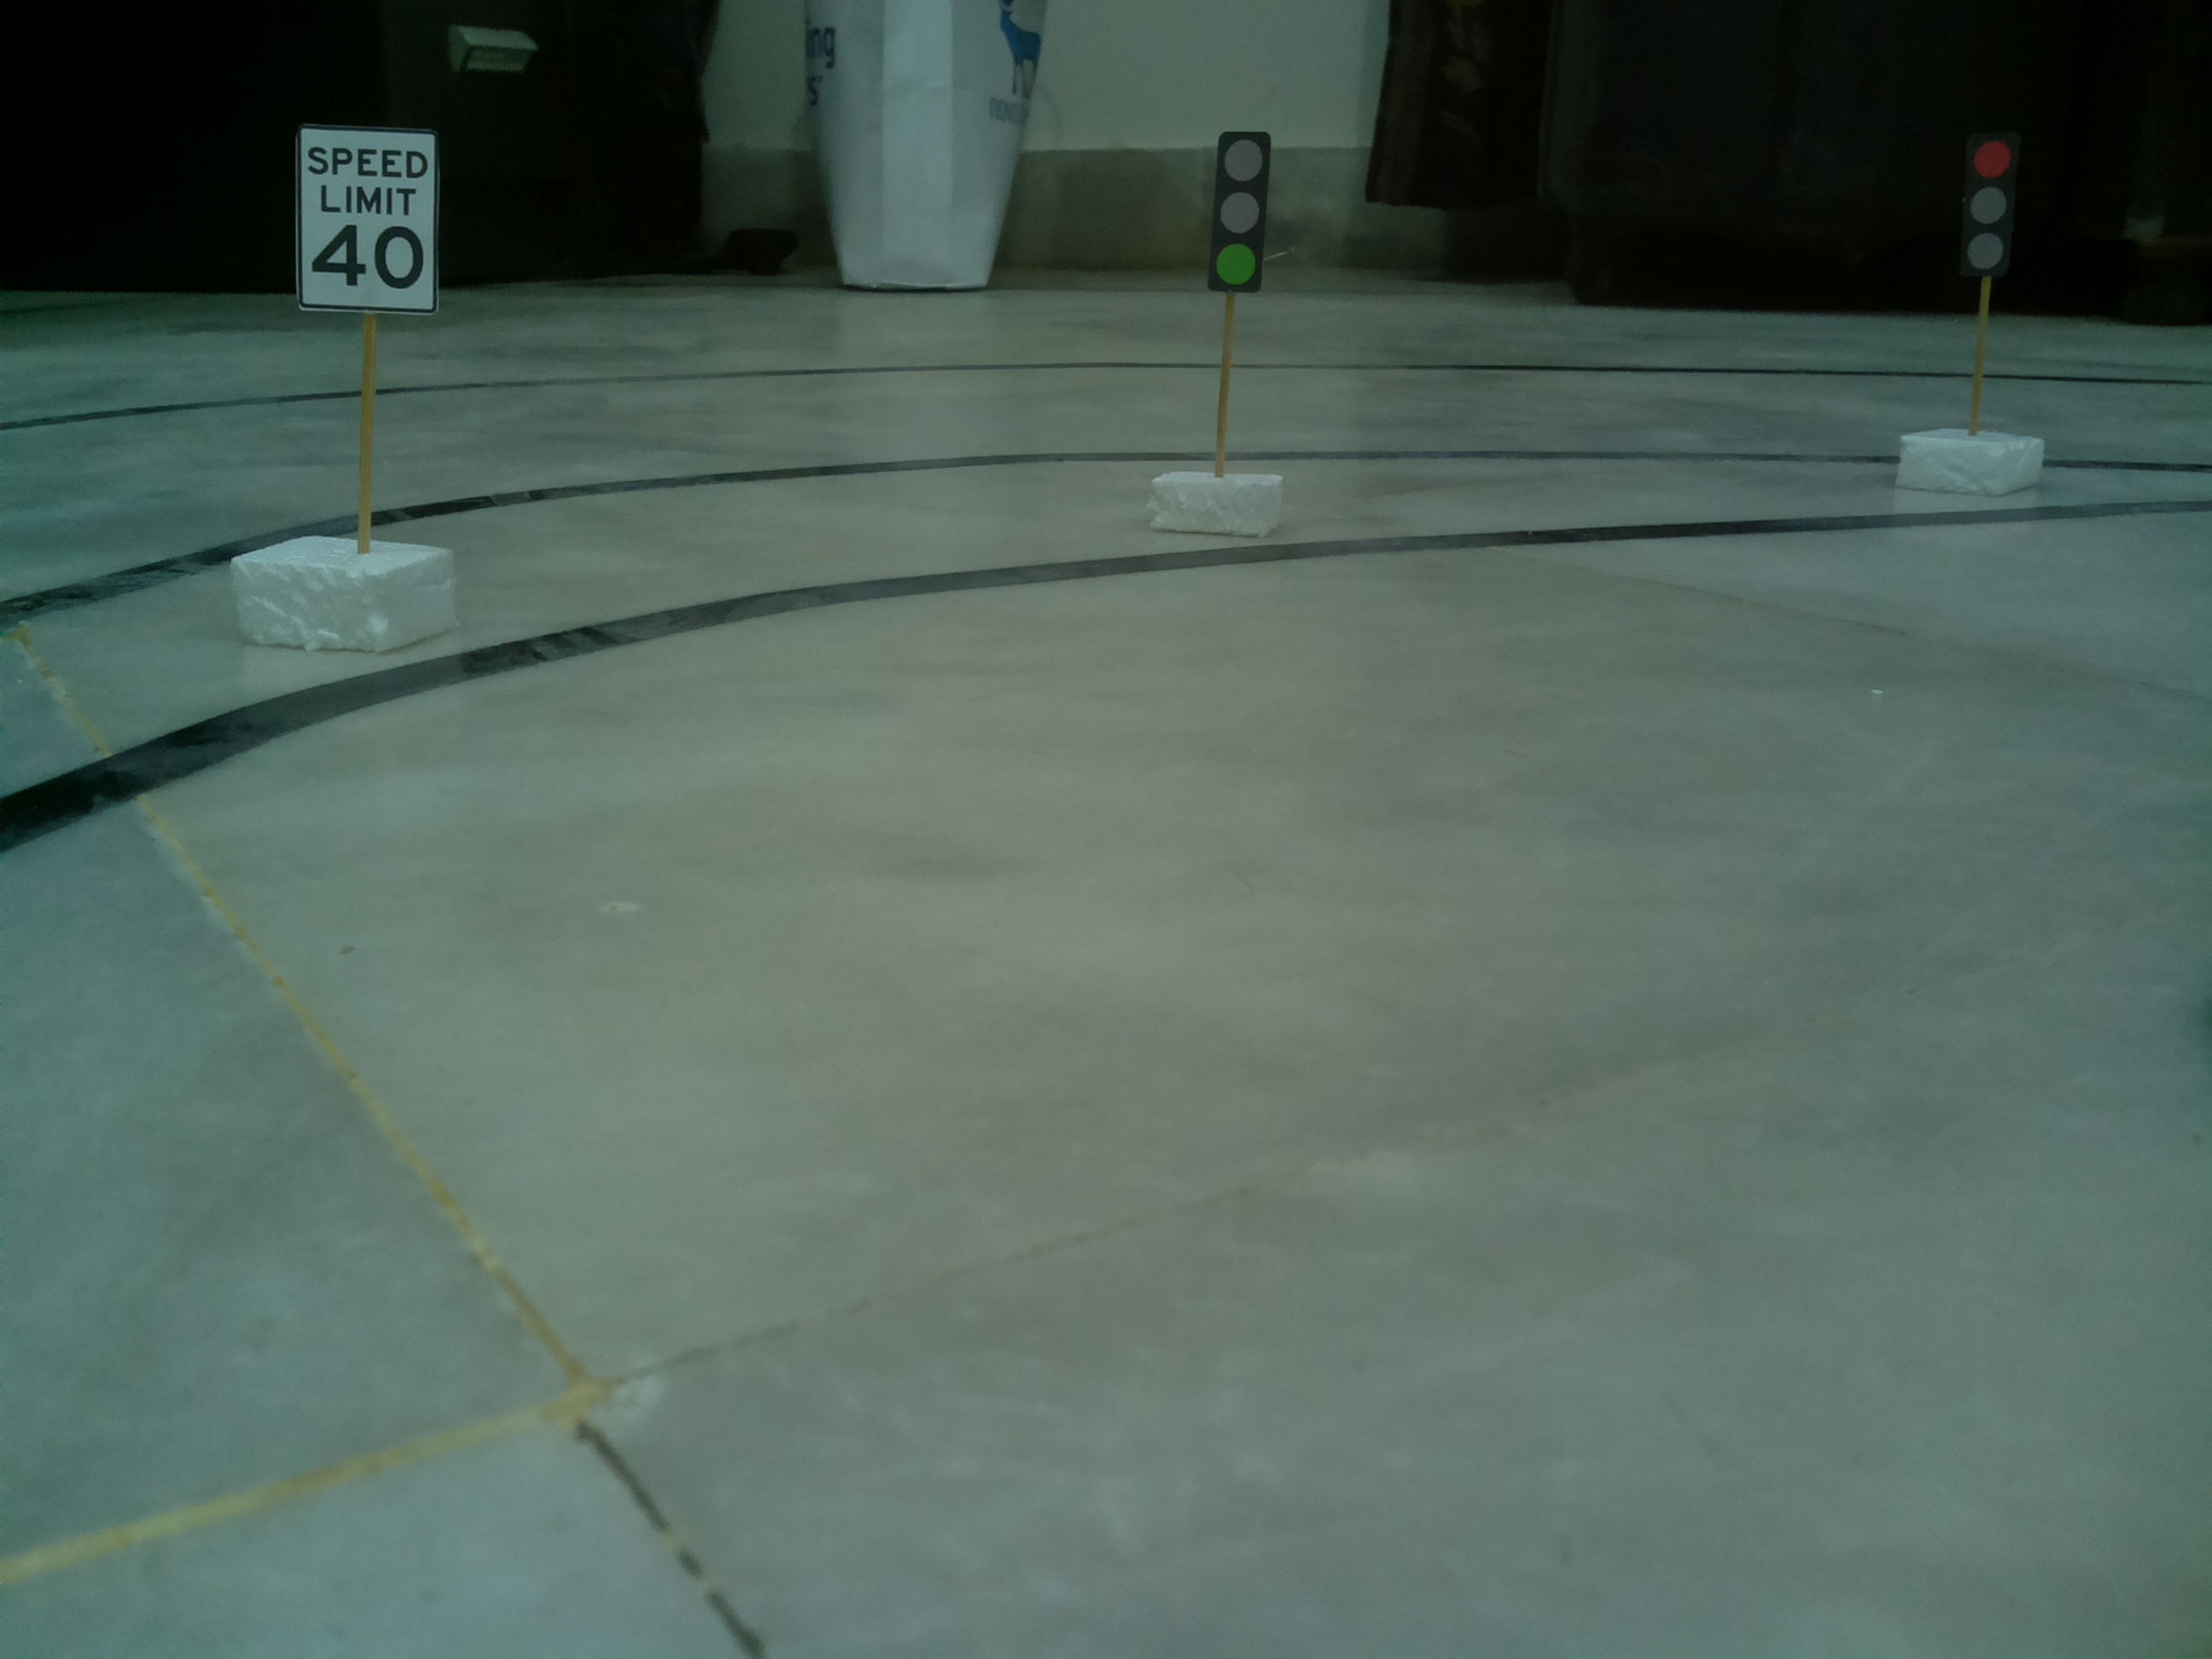Green traffic light: (1195, 120, 1280, 303)
Red traffic light: (1956, 118, 2026, 282)
Speed limit 40: (287, 115, 453, 329)
